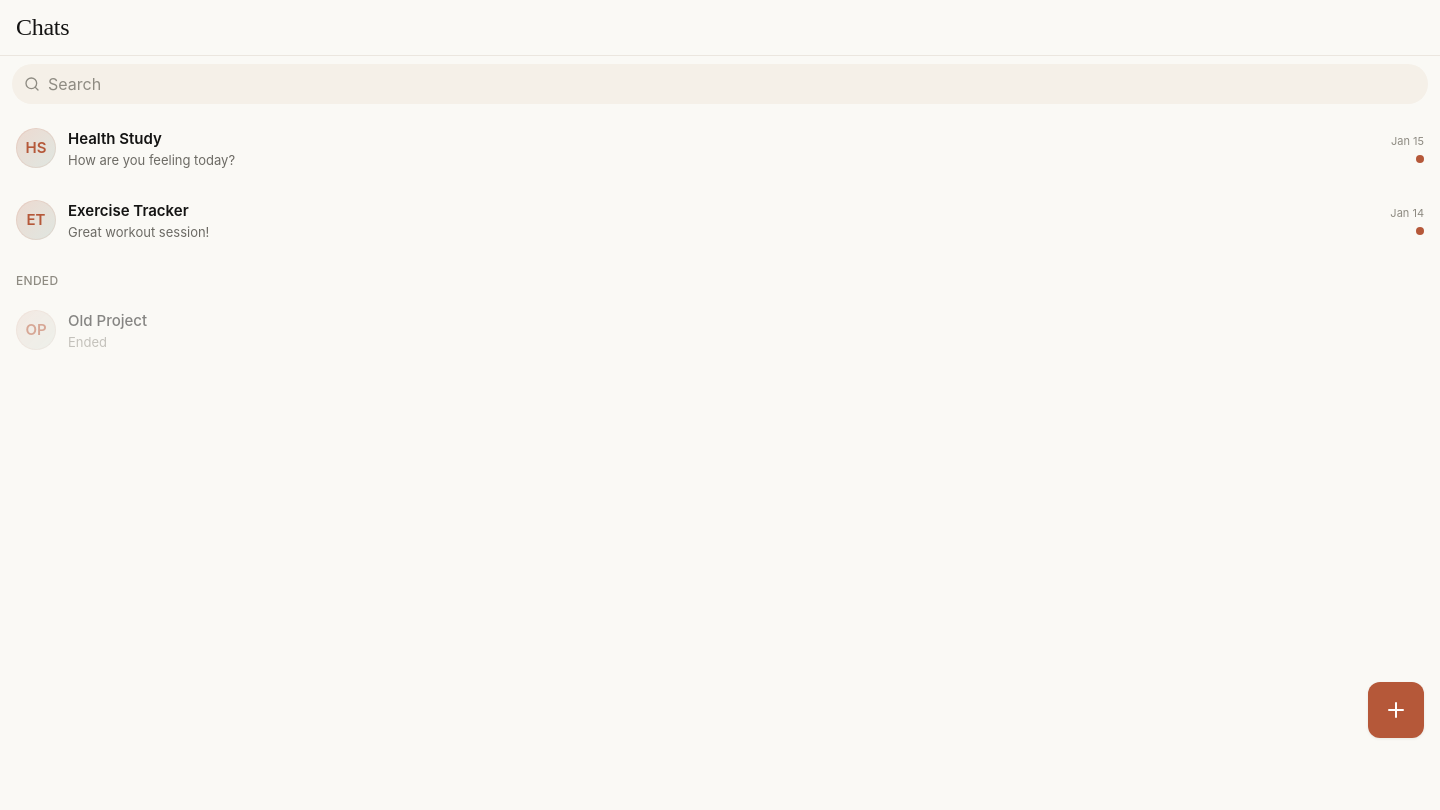
it: Dashboard chats list › filters chats by search query matching display name
Check: the text "Health Study" is shown, box [68,129,162,148]
In the field with test id "chat-search": (720, 84) [12,64,1428,104], type "exercise"
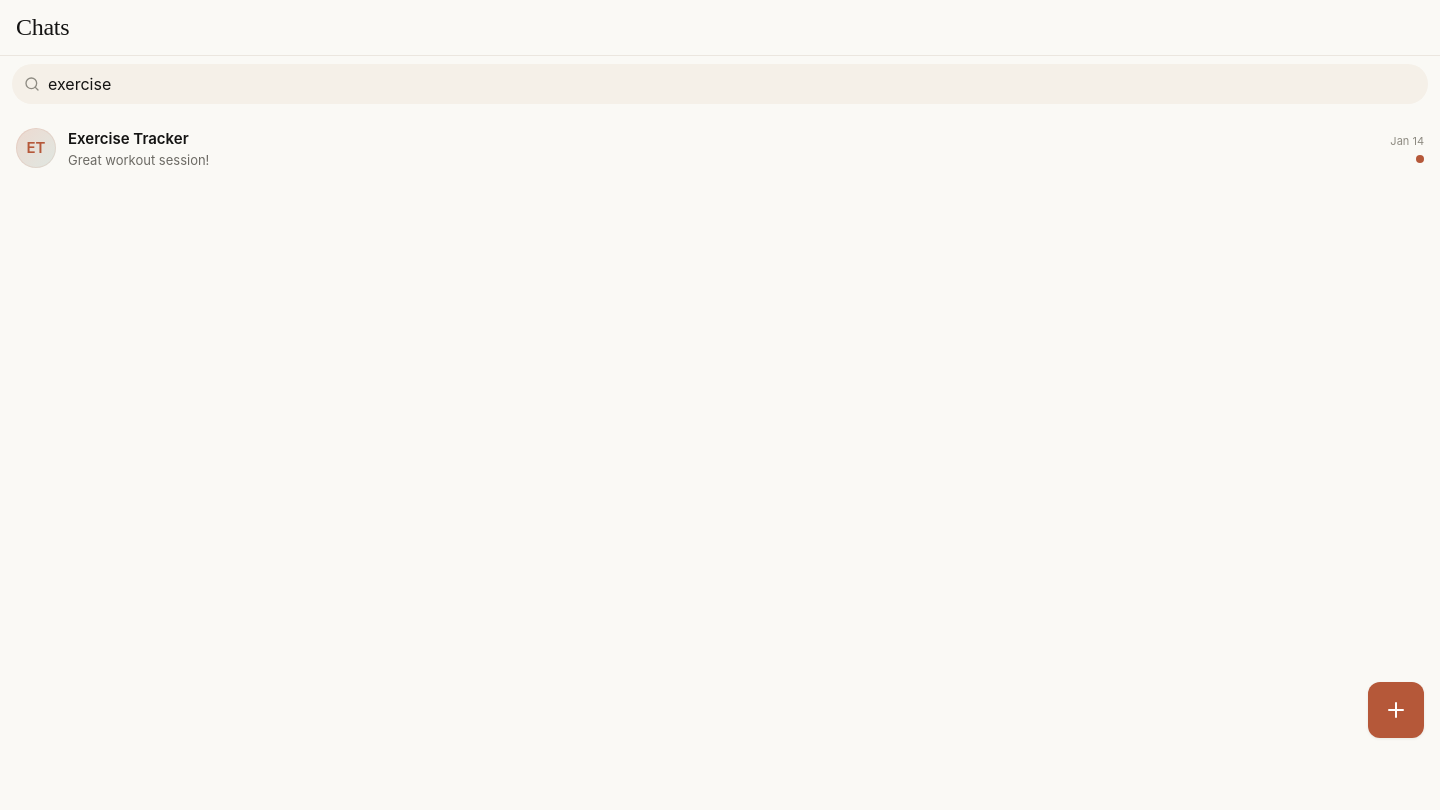
Check: the text "Exercise Tracker" is shown, box [68,129,189,148]
Check: the link "Health Study" is gone
